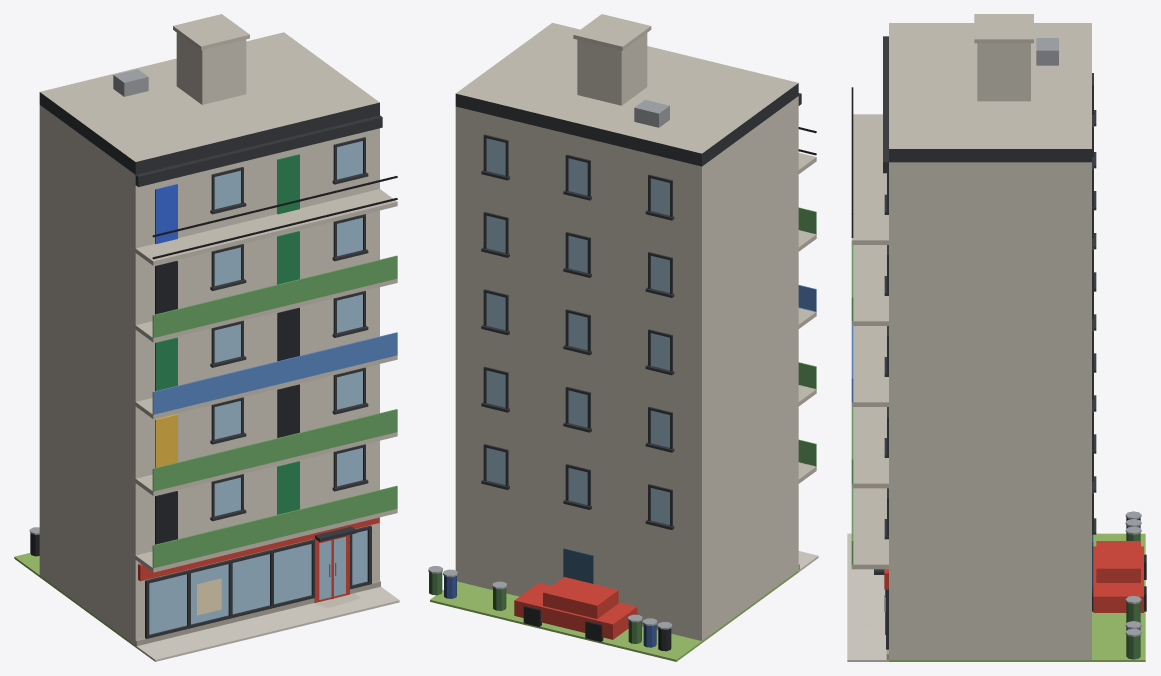
File: Blok_duz_6k_6_Hafif.fbx
The picture shows the model from 3 angles, left to right: view 1: azimuth 30°, elevation 25°; view 2: azimuth 150°, elevation 25°; view 3: azimuth 270°, elevation 25°; orthographic projection. The views are drawn at different scales.
Parts seen in each view (by area): view 1: Blok_duz_6k_6_Hafif; view 2: Blok_duz_6k_6_Hafif; view 3: Blok_duz_6k_6_Hafif.
Boxes of the visible parts, <box> form: Blok_duz_6k_6_Hafif: <box>14,14,399,661</box>; Blok_duz_6k_6_Hafif: <box>428,14,818,661</box>; Blok_duz_6k_6_Hafif: <box>847,14,1146,661</box>.
Bounding box in the file's own units: 10.27 × 21.37 × 10.04.
